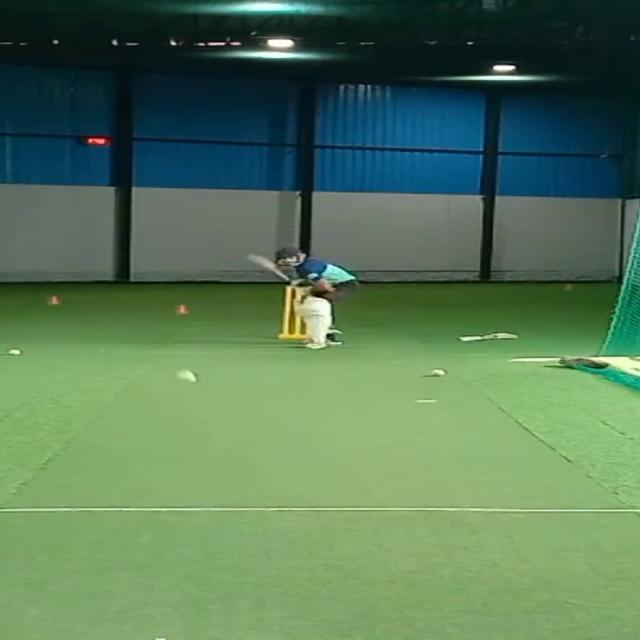ball: (166, 367, 200, 385), (424, 363, 453, 379), (4, 343, 27, 361)
stump: (277, 284, 306, 341)
